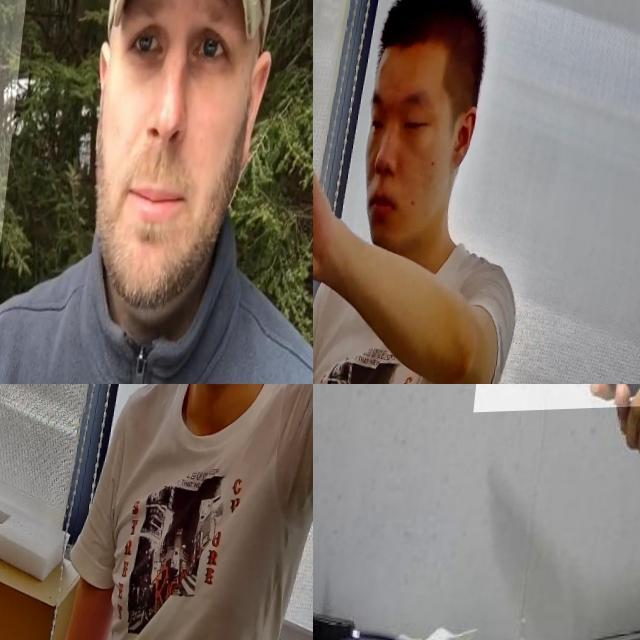-: (0, 0, 104, 250), (481, 384, 640, 437)
gun-knife-thesis - v11 Yolov5 augmented: (313, 140, 398, 342)
